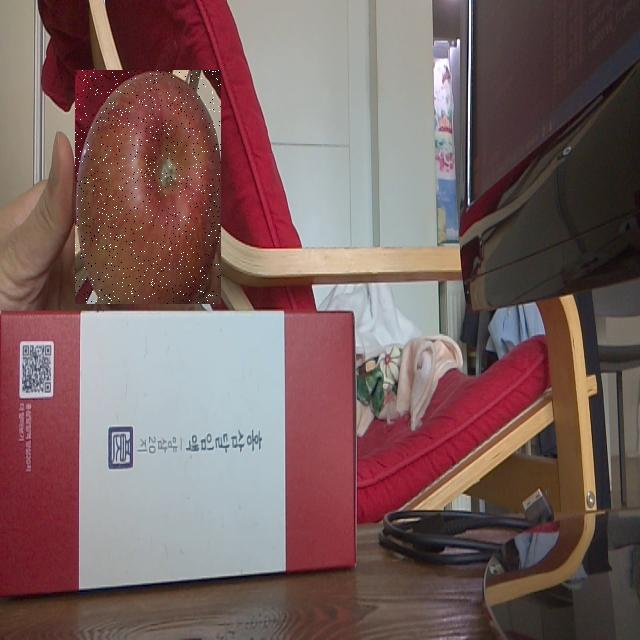apple: (75, 70, 221, 304)
